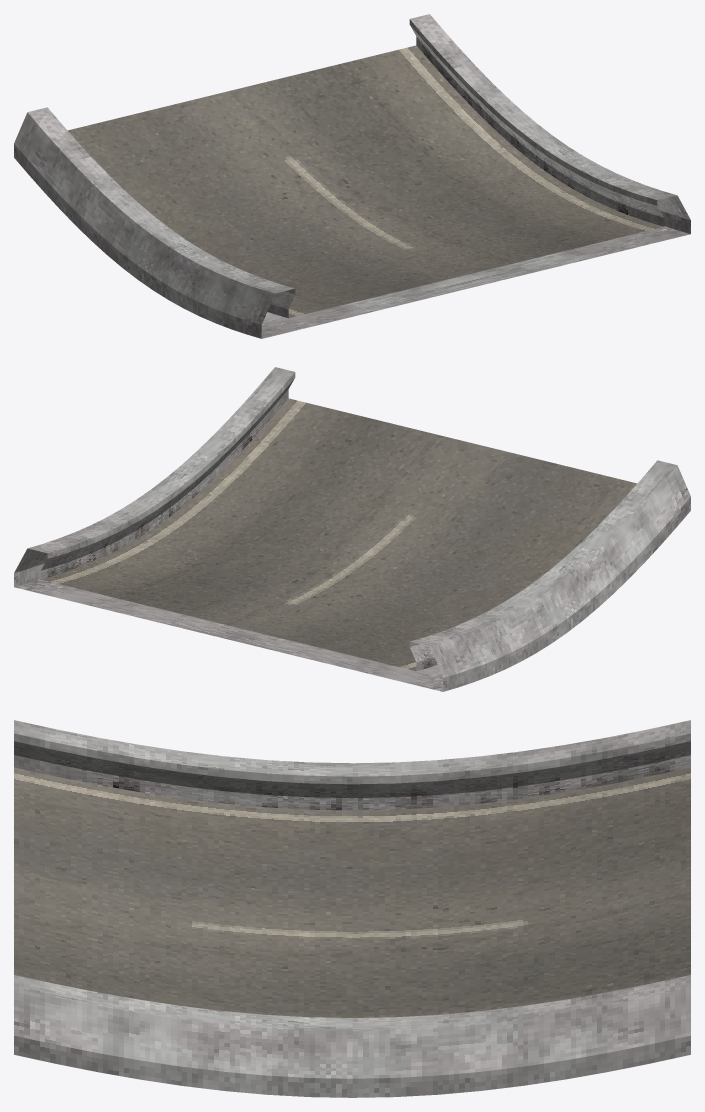
Rendered from road-Straight-BiSlopeDown-BiSlopeUp-Even-Center-Size1.glb.
3 views of the same model, one above another, from view 1: azimuth 30°, elevation 25°; view 2: azimuth 150°, elevation 25°; view 3: azimuth 270°, elevation 25° (orthographic). The views are drawn at different scales.
Parts seen in each view (by area): view 1: road-Straight-BiSlopeDown-BiSlopeUp-Even-Center-Size1; view 2: road-Straight-BiSlopeDown-BiSlopeUp-Even-Center-Size1; view 3: road-Straight-BiSlopeDown-BiSlopeUp-Even-Center-Size1.
Part boxes in pixels (x1,y1,x2,y2): road-Straight-BiSlopeDown-BiSlopeUp-Even-Center-Size1: [14, 14, 690, 338]; road-Straight-BiSlopeDown-BiSlopeUp-Even-Center-Size1: [14, 367, 690, 691]; road-Straight-BiSlopeDown-BiSlopeUp-Even-Center-Size1: [14, 720, 690, 1097].
Bounding box in the file's own units: 1 × 0.1641 × 1.
Materials: 2 (2 with a texture image).
